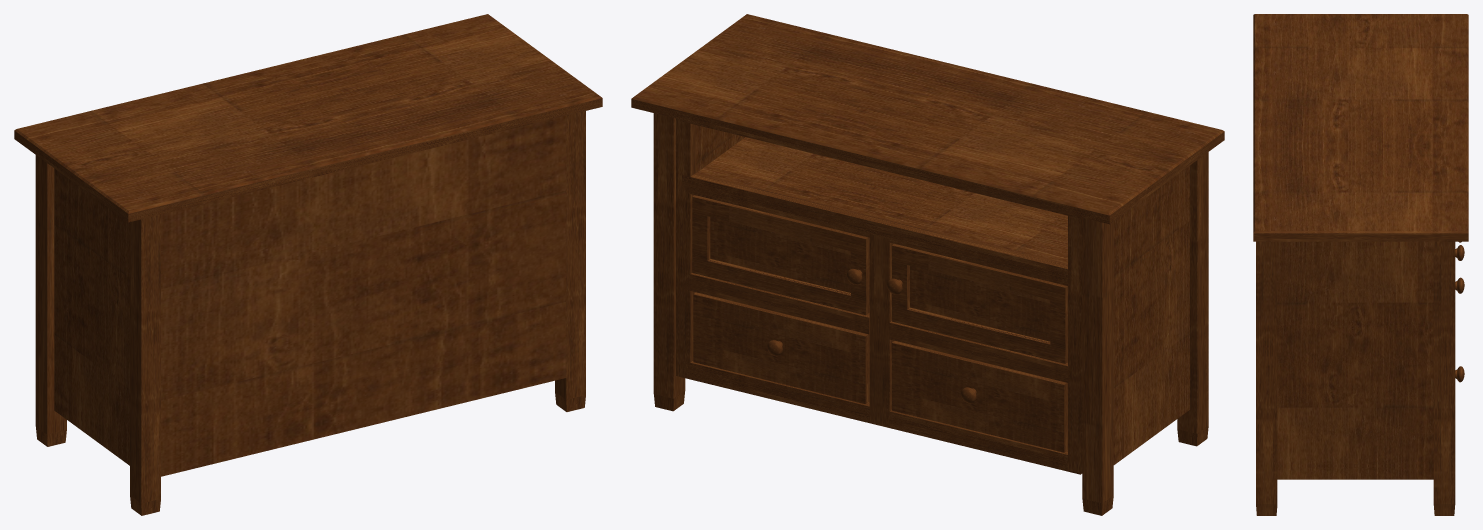
The model's file is OAW001255.glb.
3 views of the same model, side by side, from view 1: azimuth 30°, elevation 25°; view 2: azimuth 150°, elevation 25°; view 3: azimuth 270°, elevation 25° (orthographic). The views are drawn at different scales.
Parts seen in each view (by area): view 1: Cube.016, Top, Cube.014, Leg 3, Leg 1, Leg 4; view 2: Top, Cube.014, Cube.018, Cube.009, Cube.008, Leg 4, Cube.004, Cube.010, Cube.013, Leg 2, Cube.005, Cube.012 (+9 smaller); view 3: Top, Cube.015, Leg 2, Leg 1.
Part boxes in pixels (x1,y1,x2,y2): Cube.016: (161,116,566,476); Top: (14,14,602,222); Cube.014: (54,168,129,465); Leg 3: (130,214,160,515); Leg 1: (555,111,585,411); Leg 4: (35,155,66,446); Top: (631,14,1224,224); Cube.014: (1113,166,1189,464); Cube.018: (691,137,1067,285); Cube.009: (693,292,869,403); Cube.008: (892,341,1067,452); Leg 4: (1082,217,1113,515); Cube.004: (682,173,1079,285); Cube.010: (692,195,869,315); Cube.013: (892,244,1067,363); Leg 2: (653,113,685,411); Cube.005: (682,361,1081,474); Cube.012: (910,265,1050,341); Top: (1253,14,1468,241); Cube.015: (1277,241,1433,479); Leg 2: (1433,241,1455,515); Leg 1: (1256,241,1277,515).
Size of the model in its own units: 1.22 by 0.7586 by 0.508.
Materials: 3 (2 with a texture image).
